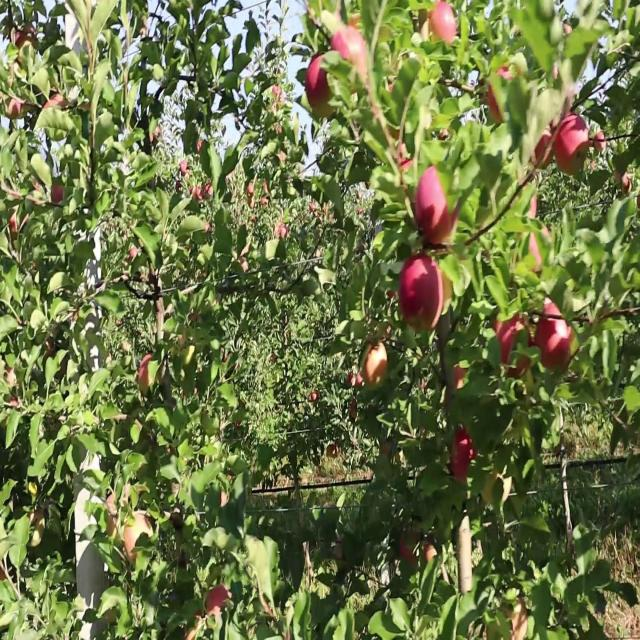apple: (416, 170, 459, 249), (400, 255, 442, 332), (536, 305, 575, 372), (556, 113, 591, 176), (500, 319, 533, 382), (488, 63, 519, 126), (332, 28, 368, 82), (452, 426, 479, 485), (304, 56, 332, 108), (124, 519, 151, 564), (432, 7, 459, 48), (528, 227, 553, 270), (364, 348, 388, 386), (436, 263, 454, 313), (508, 597, 529, 639), (208, 583, 232, 619), (536, 127, 555, 171), (525, 234, 548, 270), (592, 127, 608, 169), (104, 497, 119, 537), (124, 526, 138, 564), (452, 362, 468, 395), (400, 533, 416, 564), (592, 135, 608, 162), (8, 369, 20, 405), (616, 170, 632, 196), (140, 355, 152, 389), (348, 369, 364, 391), (8, 213, 23, 236), (48, 92, 67, 108), (32, 511, 45, 533), (8, 99, 21, 121), (52, 184, 64, 206), (24, 28, 37, 46), (424, 547, 436, 564), (16, 28, 25, 50), (128, 248, 139, 263), (220, 490, 229, 508), (48, 341, 56, 359)
